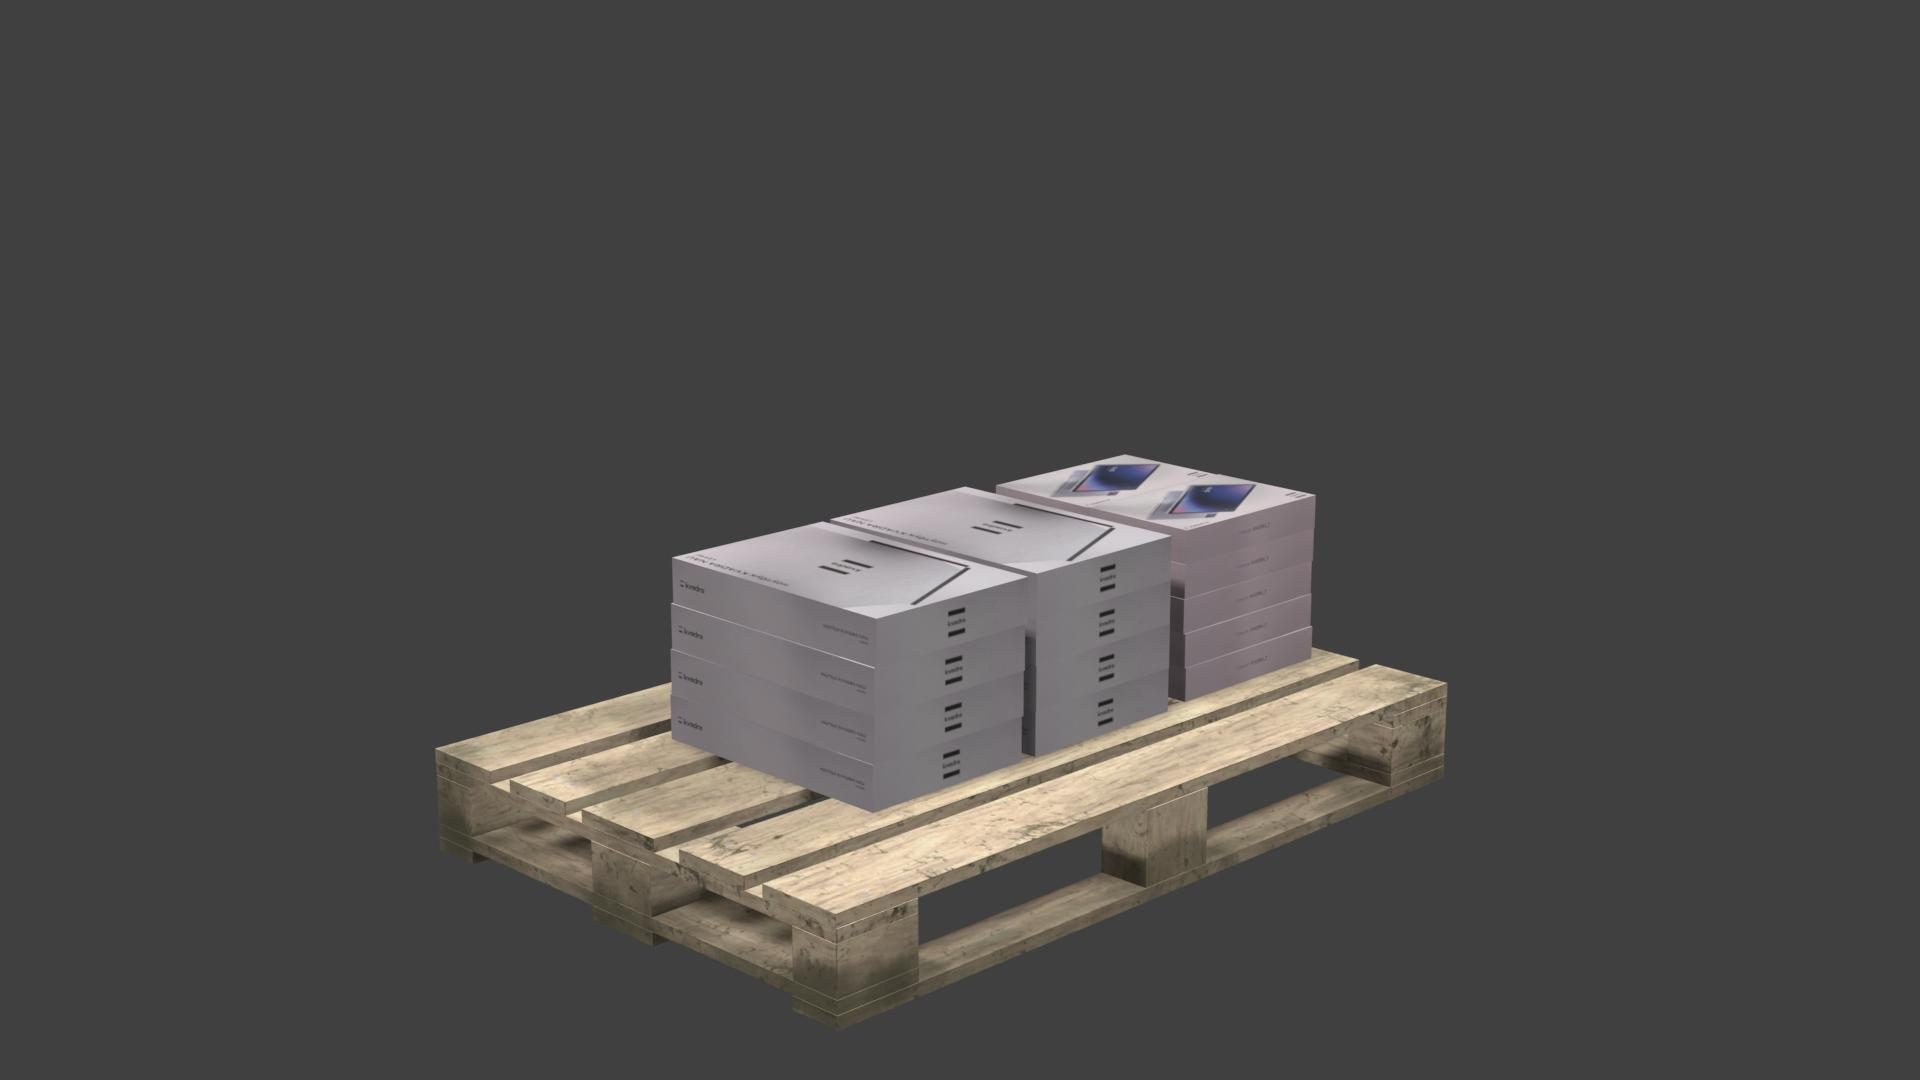laptop_left: (671, 695, 1023, 814), (670, 649, 1023, 764), (671, 604, 1025, 716), (673, 558, 1027, 669), (1034, 670, 1168, 757), (1034, 625, 1168, 711), (1034, 582, 1168, 665), (1036, 538, 1171, 620)
laptop_top: (674, 521, 1027, 620), (833, 485, 1171, 574)
palet: (434, 646, 1447, 1033)
tablet_left: (1170, 626, 1312, 703), (1171, 595, 1311, 669), (1172, 562, 1312, 634), (1172, 495, 1315, 564), (1172, 530, 1313, 599)
tablet_top: (1093, 473, 1315, 530), (1000, 454, 1213, 508)
